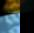pot: (0, 0, 20, 13)
